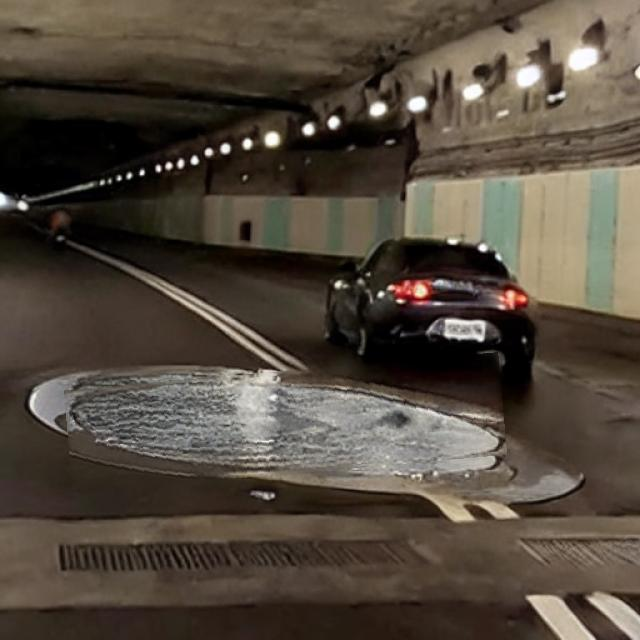puddle: (66, 363, 506, 484)
